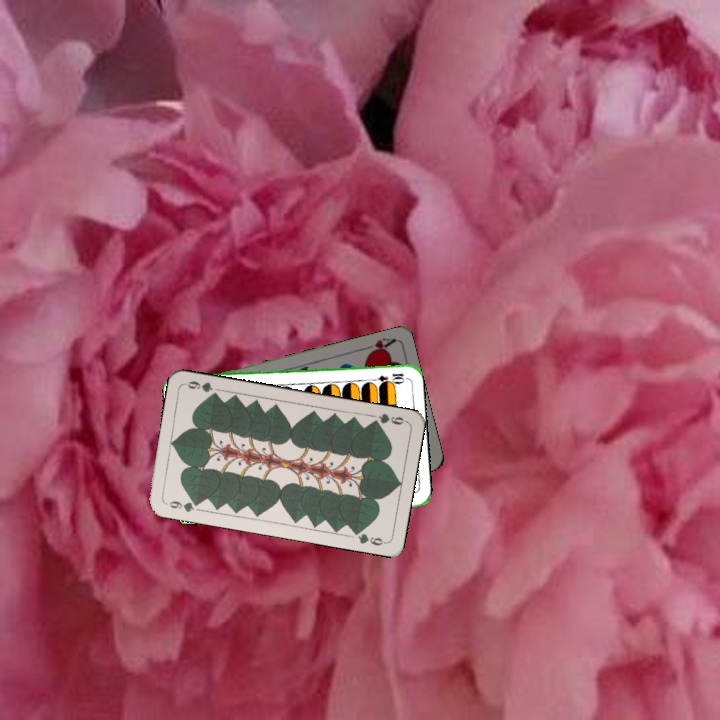E10: (366, 369, 407, 385)
G9: (367, 409, 409, 427), (162, 497, 203, 515)
HA: (357, 333, 397, 358)
